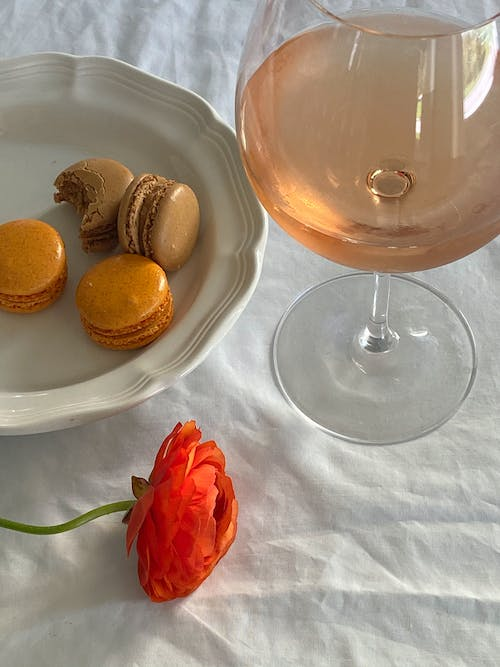alcohol: (234, 0, 500, 446)
